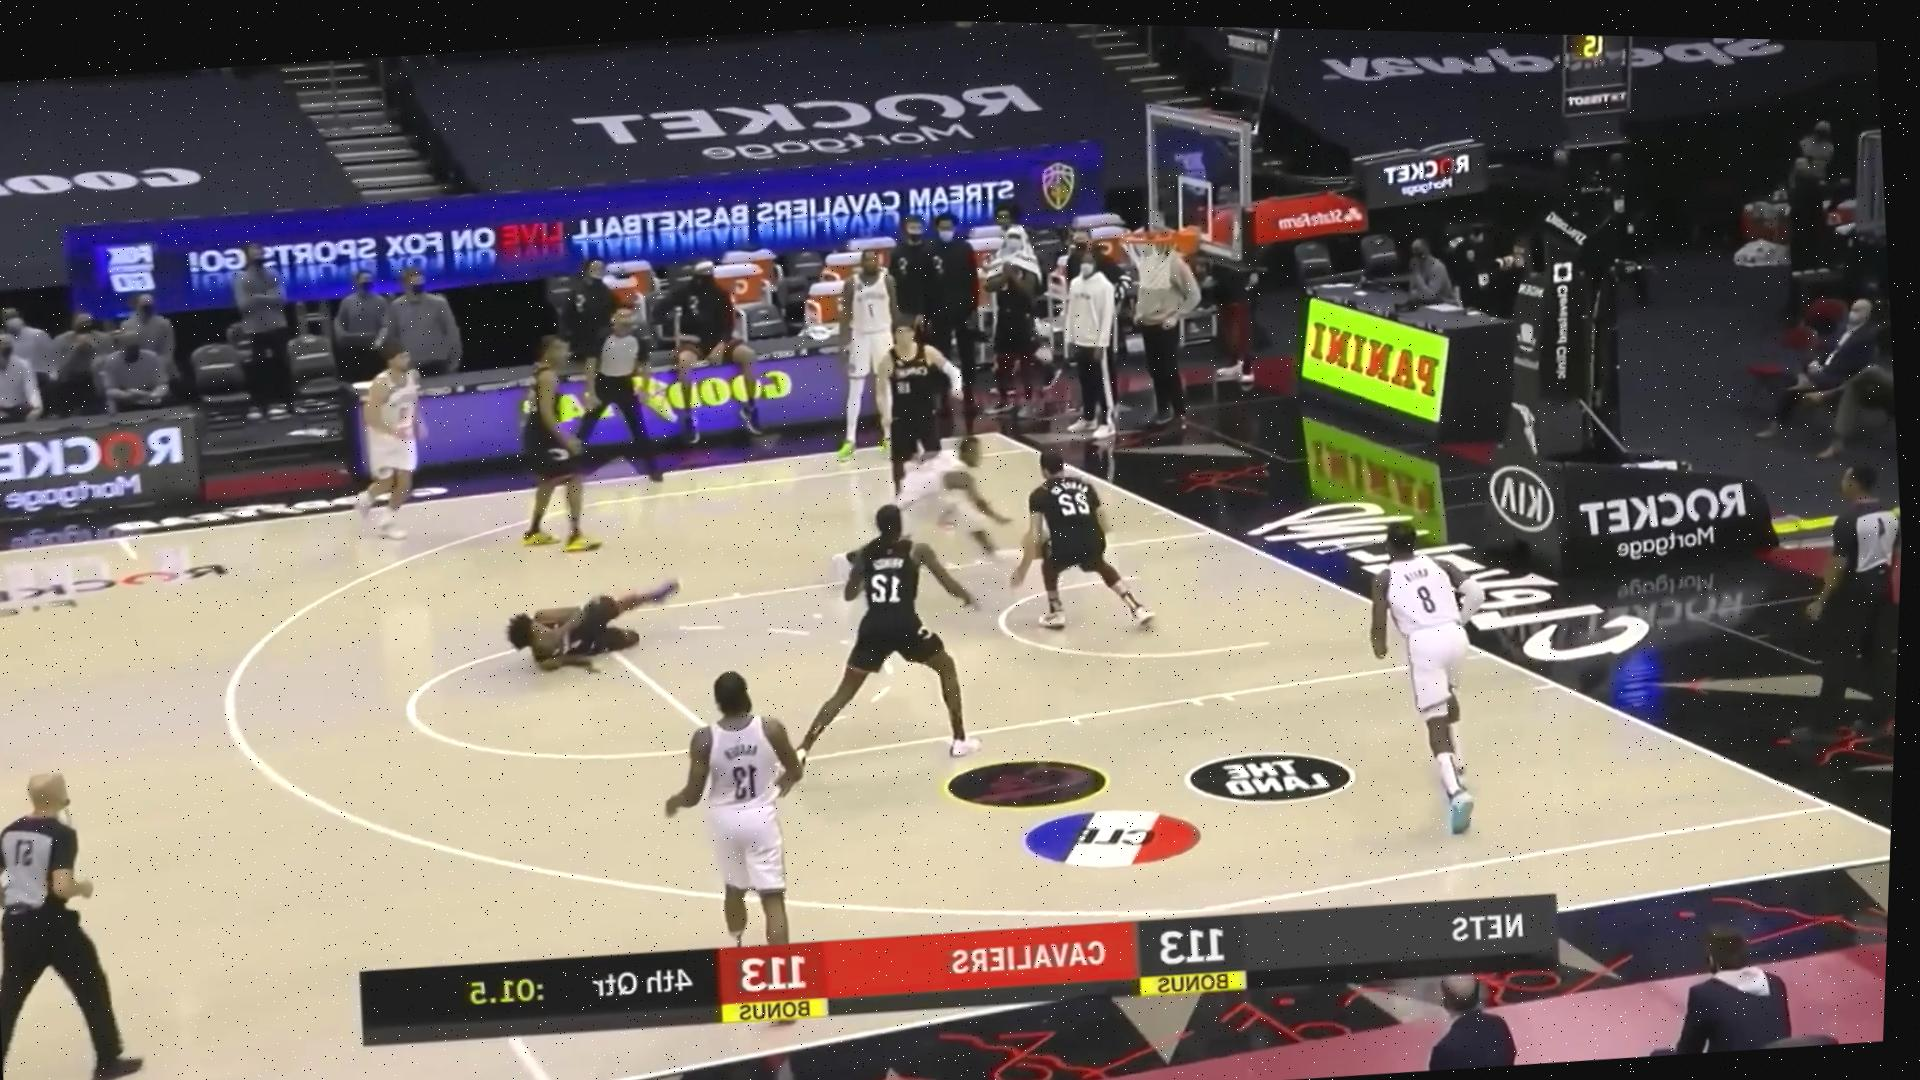no_foul: (813, 231, 972, 514)
